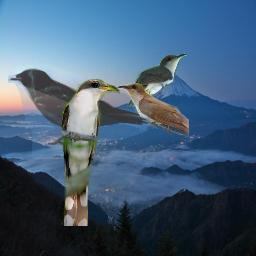Crow: (8, 65, 151, 159)
Cuckoo: (60, 78, 120, 226), (115, 83, 189, 137), (127, 53, 188, 107)
